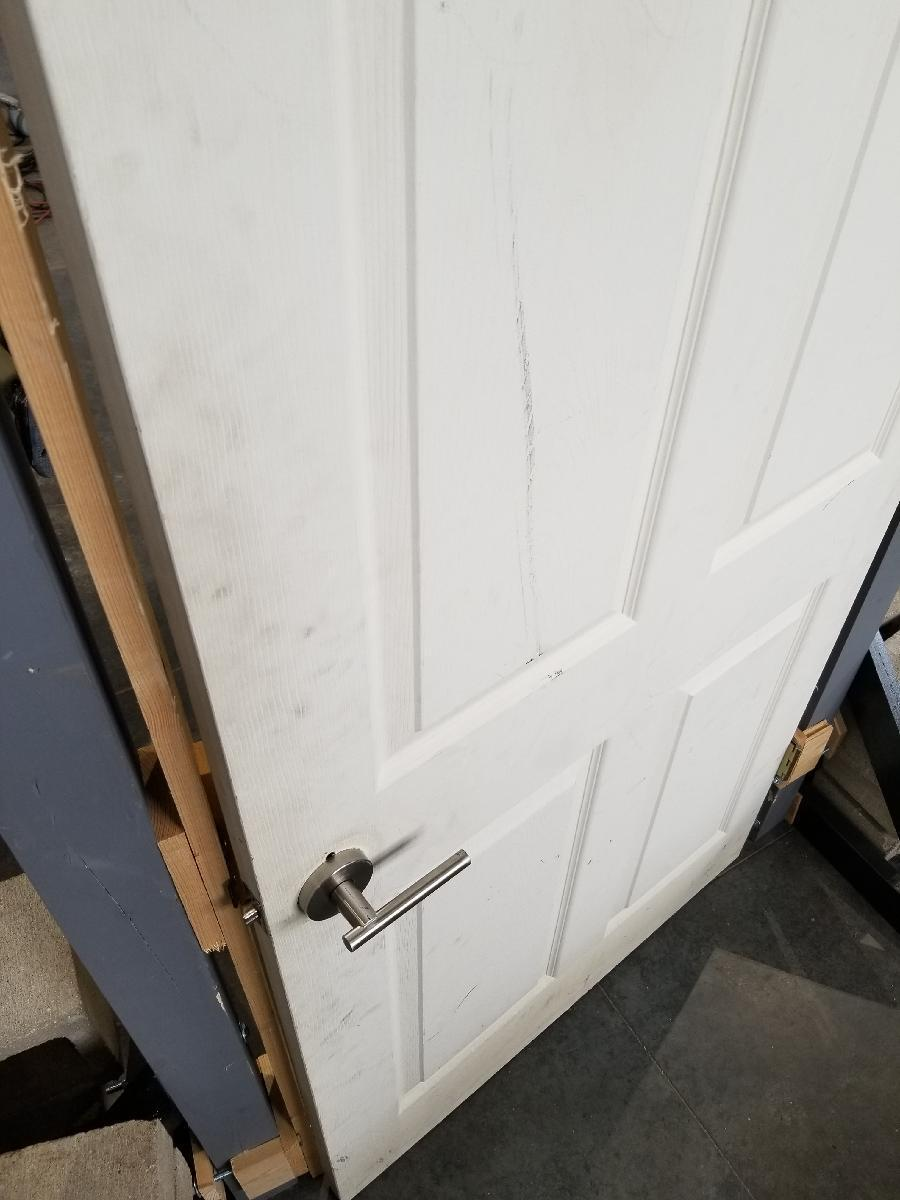door: (183, 5, 843, 1188)
handle: (298, 833, 474, 955)
